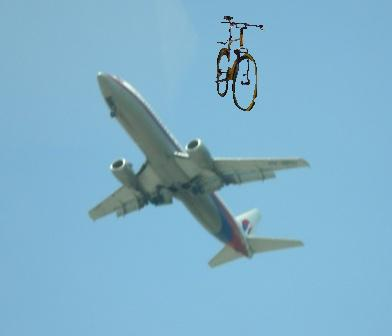tampered: (216, 17, 279, 111)
